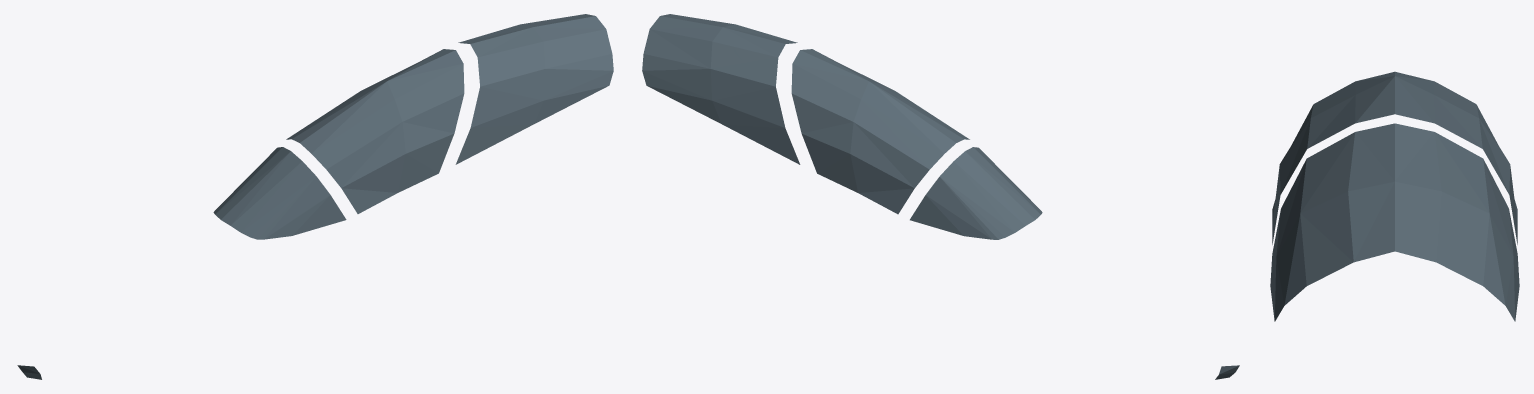
Rendered from hawk.glass.glb.
The picture shows the model from 3 angles, left to right: view 1: azimuth 30°, elevation 25°; view 2: azimuth 150°, elevation 25°; view 3: azimuth 270°, elevation 25°; orthographic projection. The views are drawn at different scales.
Parts seen in each view (by area): view 1: glass; view 2: glass; view 3: glass.
Boxes of the visible parts, left/top/right/bottom form: glass: left=17, top=14, right=613, bottom=379; glass: left=642, top=14, right=1239, bottom=379; glass: left=1270, top=71, right=1519, bottom=321.
Size of the model in its own units: 5.26 by 1.95 by 0.9782.
